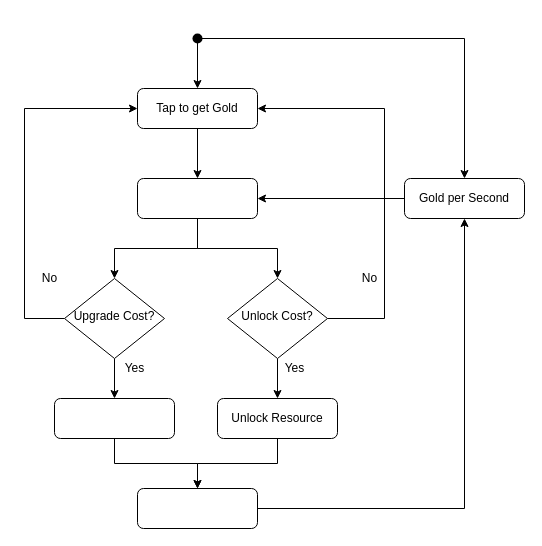
Image size: 542x546. Some labels were removed from this diagram. Each missing label, with the centre of its shape:
Increase Gold per Second: [197,508]
Total Gold: [197,198]
Upgrade Resource: [114,418]
